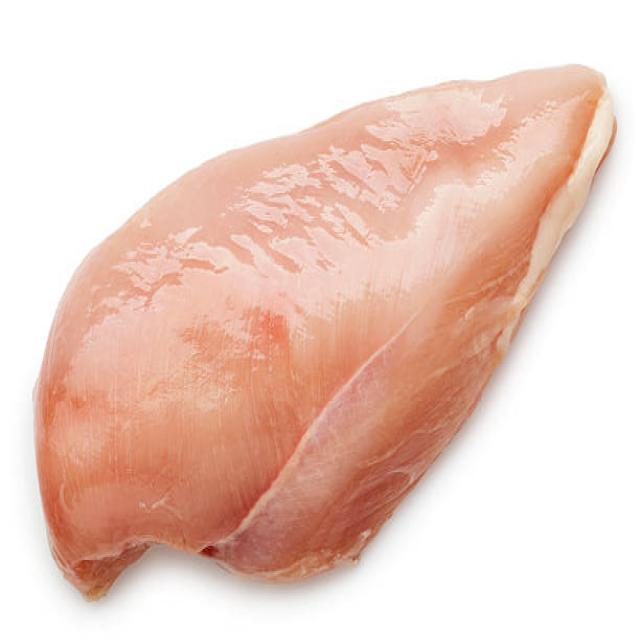chicken breast: (14, 38, 630, 616)
